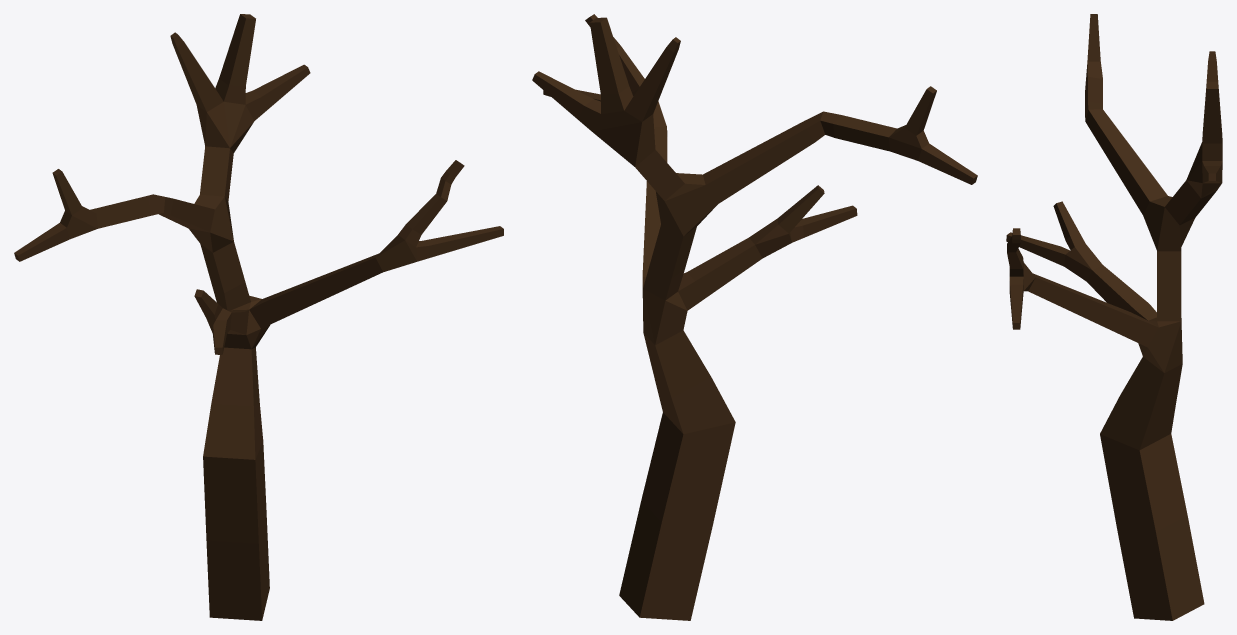
Rendered from BaumLeer.fbx.
3 renders of one model, left to right at view 1: azimuth 30°, elevation 25°; view 2: azimuth 150°, elevation 25°; view 3: azimuth 270°, elevation 25°, orthographic. The views are drawn at different scales.
Parts seen in each view (by area): view 1: BaumLeer; view 2: BaumLeer; view 3: BaumLeer.
Boxes of the visible parts, x1,y1,x2,y2 form: BaumLeer: (14, 14, 503, 620); BaumLeer: (532, 14, 977, 620); BaumLeer: (1006, 14, 1222, 620).
Size of the model in its own units: 146 by 178 by 63.89.
